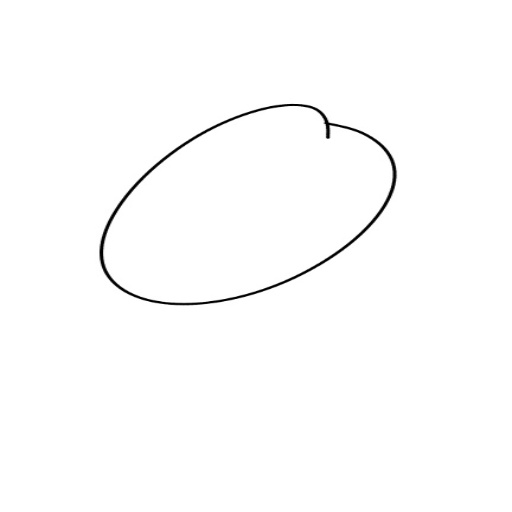circle: (94, 90, 403, 309)
